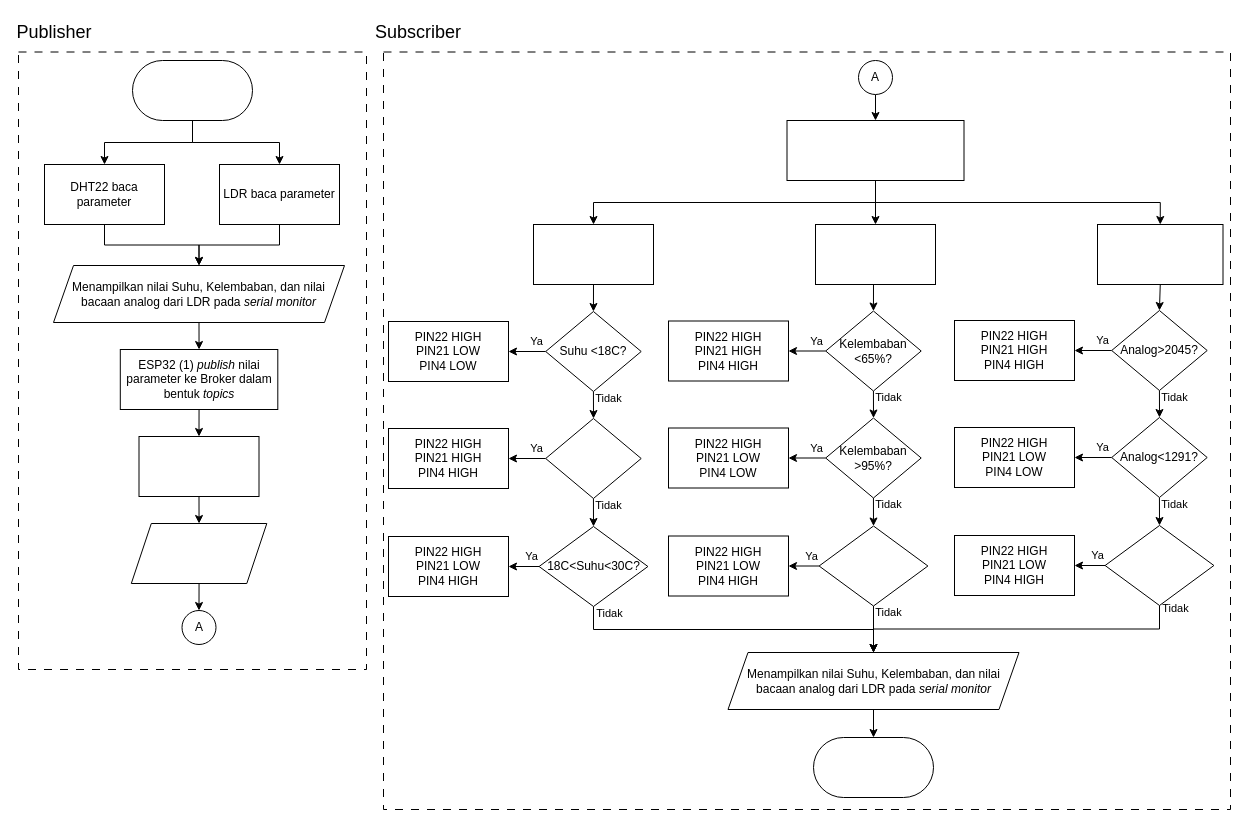
Some shapes in this 1248 by 827 pixel diagram are drawn without their labels. Here are the shapes that lost their labels. From the top down, the box of each, then its label:
(132, 60, 252, 120): Mulai
(786, 120, 964, 180): ESP32 (2) subscribe nilai parameter pada Broker dalam bentuk topics
(532, 224, 654, 284): Membaca nilai Suhu
(814, 224, 936, 284): Membaca nilai Kelembaban
(1096, 224, 1223, 284): Membaca nilai analog
(138, 436, 259, 496): Broker subscribe topic
(545, 418, 641, 498): Suhu >30C?
(130, 522, 267, 584): Data ditampilkan pada broker
(818, 525, 928, 606): 65%< Kelembaban <95%?
(1104, 524, 1214, 606): 1291<Analog <2045?
(812, 736, 934, 798): Selesai
